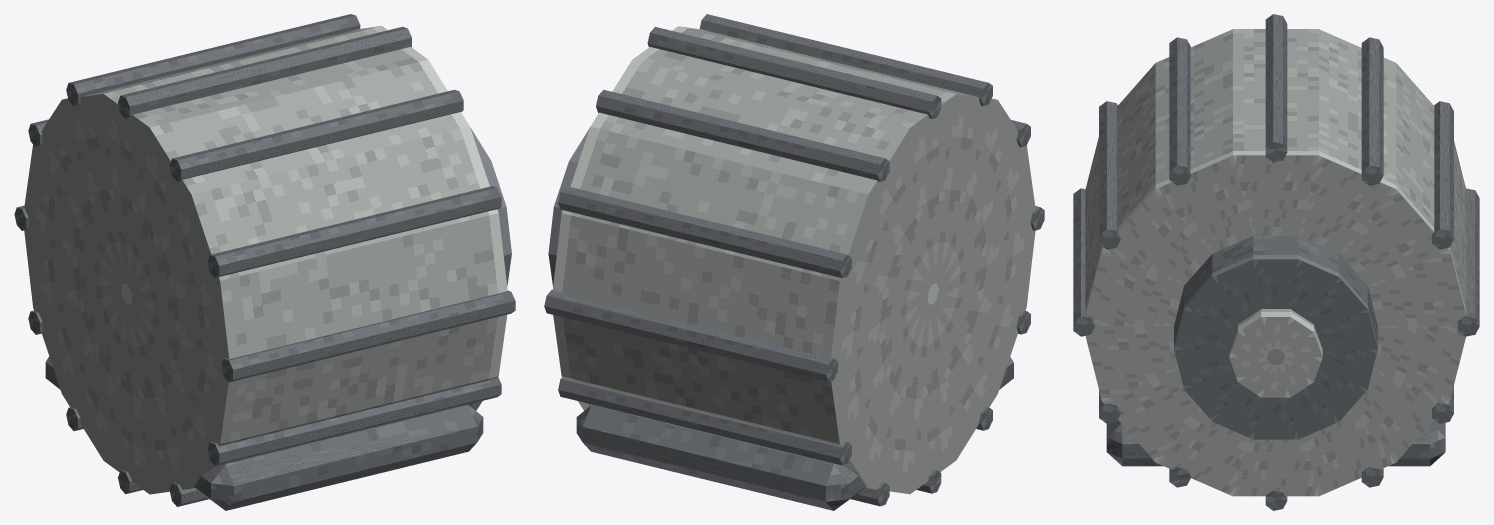
The model's file is alternator_motorbike.glb.
The picture shows the model from 3 angles, left to right: view 1: azimuth 30°, elevation 25°; view 2: azimuth 150°, elevation 25°; view 3: azimuth 270°, elevation 25°; orthographic projection. The views are drawn at different scales.
Parts seen in each view (by area): view 1: block_vented cast body, block_cooling rib (×7), block_mounting foot, block_drive pulley; view 2: block_vented cast body, block_cooling rib (×7), block_mounting foot, block_drive pulley; view 3: block_vented cast body, block_drive pulley, block_cooling rib (×7), block_hub centre, block_mounting foot.
Part boxes in pixels (left/top/right/bottom): block_vented cast body: left=24, top=26, right=507, bottom=494; block_cooling rib (×7): left=66, top=14, right=515, bottom=506; block_mounting foot: left=45, top=356, right=483, bottom=510; block_drive pulley: left=470, top=127, right=511, bottom=285; block_vented cast body: left=552, top=26, right=1035, bottom=494; block_cooling rib (×7): left=544, top=14, right=992, bottom=506; block_mounting foot: left=576, top=357, right=1013, bottom=510; block_drive pulley: left=548, top=128, right=589, bottom=286; block_vented cast body: left=1085, top=29, right=1466, bottom=496; block_drive pulley: left=1174, top=236, right=1377, bottom=439; block_cooling rib (×7): left=1073, top=14, right=1479, bottom=336; block_hub centre: left=1229, top=309, right=1322, bottom=397; block_mounting foot: left=1106, top=420, right=1445, bottom=466.
Bounding box in the file's own units: 0.1754 × 0.19 × 0.1897.
1 material, 1 textured.
